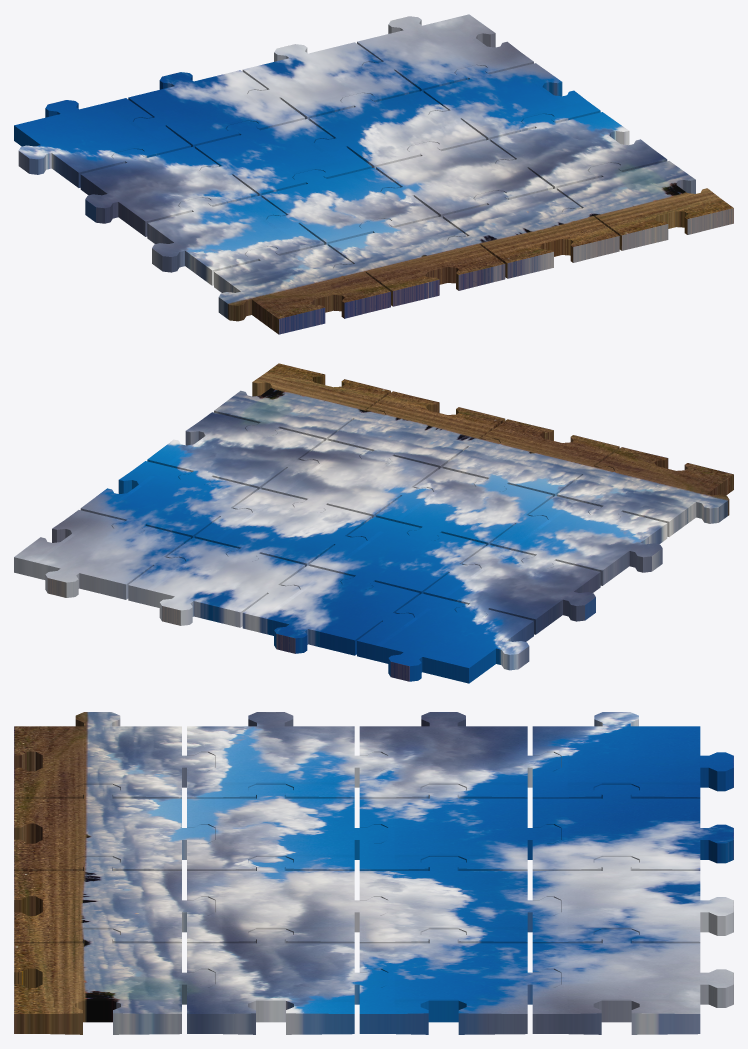
File: uploads_files_1874219_puzzel.fbx
3 renders of one model, top to bottom at view 1: azimuth 30°, elevation 25°; view 2: azimuth 150°, elevation 25°; view 3: azimuth 270°, elevation 25°, orthographic. The views are drawn at different scales.
Parts seen in each view (by area): view 1: Vert.003, Vert.000, Vert.001, Vert.002, Vert.012, Vert.011, Vert.004, Vert.015, Vert.006, Vert.009, Vert.014, Vert.013 (+4 smaller); view 2: Vert.012, Vert.015, Vert.014, Vert.013, Vert.003, Vert.004, Vert.011, Vert.000, Vert.009, Vert.006, Vert.001, Vert.002 (+4 smaller); view 3: Vert.015, Vert.000, Vert.009, Vert.006, Vert.012, Vert.014, Vert.013, Vert.003, Vert.001, Vert.002, Vert.011, Vert.004 (+4 smaller).
Boxes of the visible parts, bbox=[...] form: Vert.003: bbox=[214, 244, 390, 334]; Vert.000: bbox=[557, 161, 733, 250]; Vert.001: bbox=[443, 188, 619, 278]; Vert.002: bbox=[328, 216, 505, 306]; Vert.012: bbox=[14, 98, 190, 187]; Vert.011: bbox=[80, 147, 257, 236]; Vert.004: bbox=[147, 195, 324, 285]; Vert.015: bbox=[357, 14, 533, 91]; Vert.006: bbox=[490, 112, 667, 189]; Vert.009: bbox=[423, 63, 600, 140]; Vert.014: bbox=[242, 42, 419, 119]; Vert.013: bbox=[128, 70, 304, 147]; Vert.012: bbox=[357, 593, 533, 683]; Vert.015: bbox=[14, 510, 190, 599]; Vert.014: bbox=[128, 537, 304, 627]; Vert.013: bbox=[242, 565, 419, 655]; Vert.003: bbox=[557, 447, 733, 536]; Vert.004: bbox=[490, 496, 667, 585]; Vert.011: bbox=[423, 544, 600, 634]; Vert.000: bbox=[214, 363, 390, 440]; Vert.009: bbox=[80, 461, 257, 538]; Vert.006: bbox=[147, 412, 324, 489]; Vert.001: bbox=[328, 391, 505, 468]; Vert.002: bbox=[443, 419, 619, 496]; Vert.015: bbox=[532, 929, 733, 1034]; Vert.000: bbox=[14, 929, 215, 1034]; Vert.009: bbox=[359, 929, 560, 1034]; Vert.006: bbox=[187, 929, 388, 1034]; Vert.012: bbox=[532, 712, 733, 798]; Vert.014: bbox=[532, 856, 733, 943]; Vert.013: bbox=[532, 784, 733, 870]; Vert.003: bbox=[14, 712, 215, 798]; Vert.001: bbox=[14, 856, 215, 943]; Vert.002: bbox=[14, 784, 215, 870]; Vert.011: bbox=[359, 712, 560, 798]; Vert.004: bbox=[187, 712, 388, 798].
Size of the model in its own units: 852 by 28.28 by 858.
Materials: 1 (1 with a texture image).
